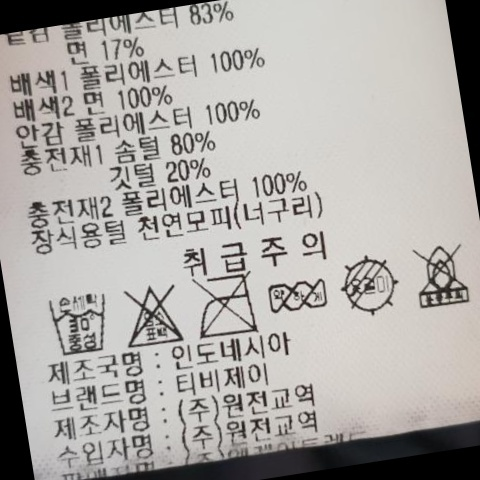DN_iron: (189, 271, 262, 344)
hand_wash: (47, 286, 119, 361)
line_dry_in_shade: (339, 251, 406, 319)
non_chlorine_bleach: (118, 272, 191, 352)
wring: (266, 270, 336, 318)
